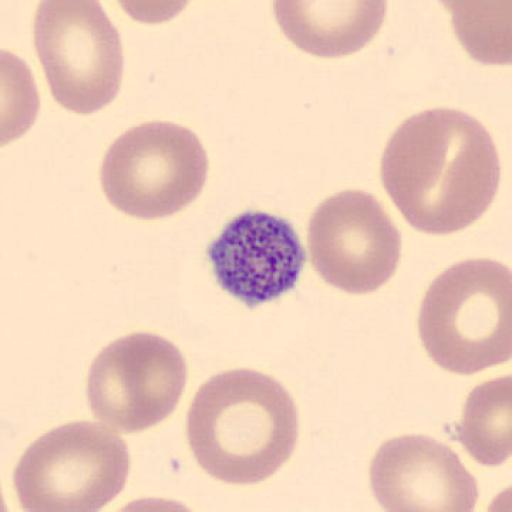Platelet: (204, 207, 311, 308)
RBC: (378, 104, 501, 238), (185, 366, 301, 487), (97, 118, 210, 222), (416, 255, 511, 377), (84, 329, 190, 435), (12, 419, 132, 512), (32, 0, 126, 116), (306, 187, 402, 295), (367, 431, 481, 512), (272, 0, 389, 61), (458, 372, 512, 469), (436, 0, 512, 67), (1, 46, 42, 150), (90, 493, 212, 512), (111, 0, 199, 25), (485, 458, 512, 512), (485, 476, 512, 512)
